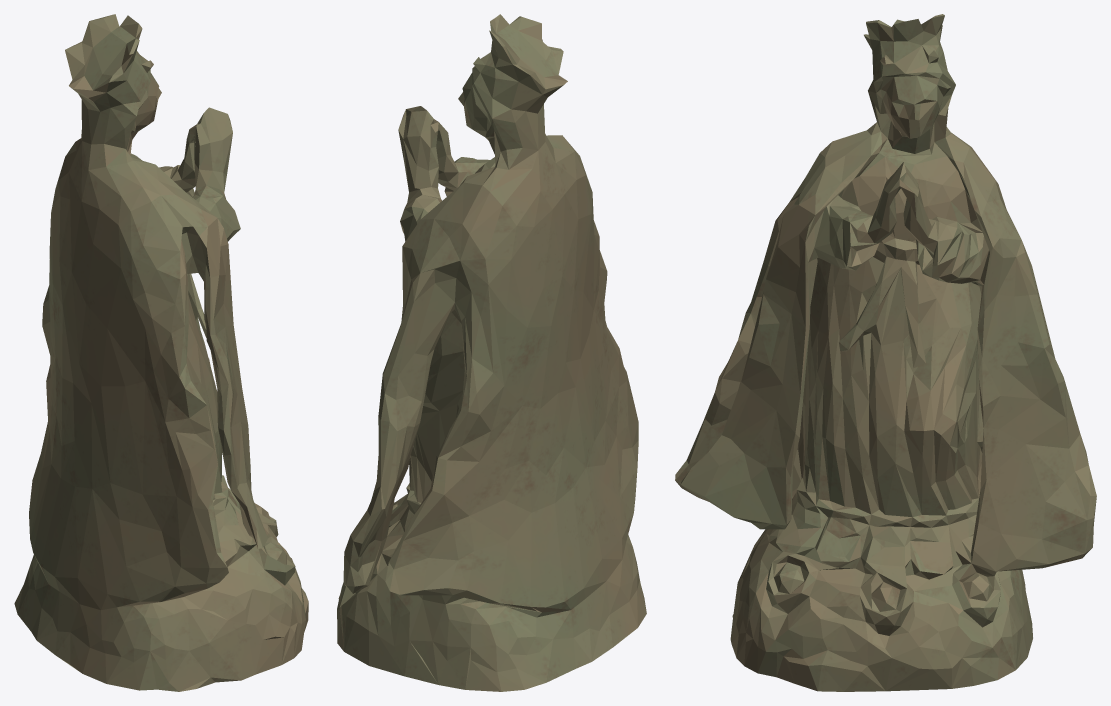
File: Virgencita.fbx
3 renders of one model, left to right at view 1: azimuth 30°, elevation 25°; view 2: azimuth 150°, elevation 25°; view 3: azimuth 270°, elevation 25°, orthographic. The views are drawn at different scales.
Visible parts, largest first — view 1: virgencita_oficial.001; view 2: virgencita_oficial.001; view 3: virgencita_oficial.001.
Part boxes in pixels (x1,y1,x2,y2): virgencita_oficial.001: [14, 14, 308, 691]; virgencita_oficial.001: [337, 14, 646, 691]; virgencita_oficial.001: [675, 14, 1096, 691].
Size of the model in its own units: 70.09 by 174 by 109.
